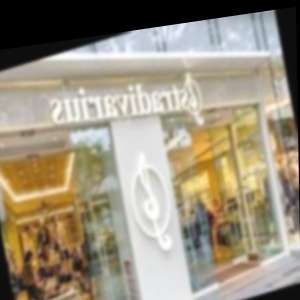stradivarius: (119, 73, 244, 206), (190, 41, 234, 88)
